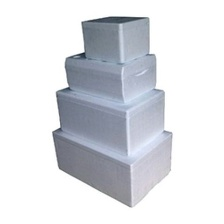foam_box: (49, 121, 175, 210), (51, 85, 169, 159), (61, 45, 161, 104), (77, 10, 154, 67)
